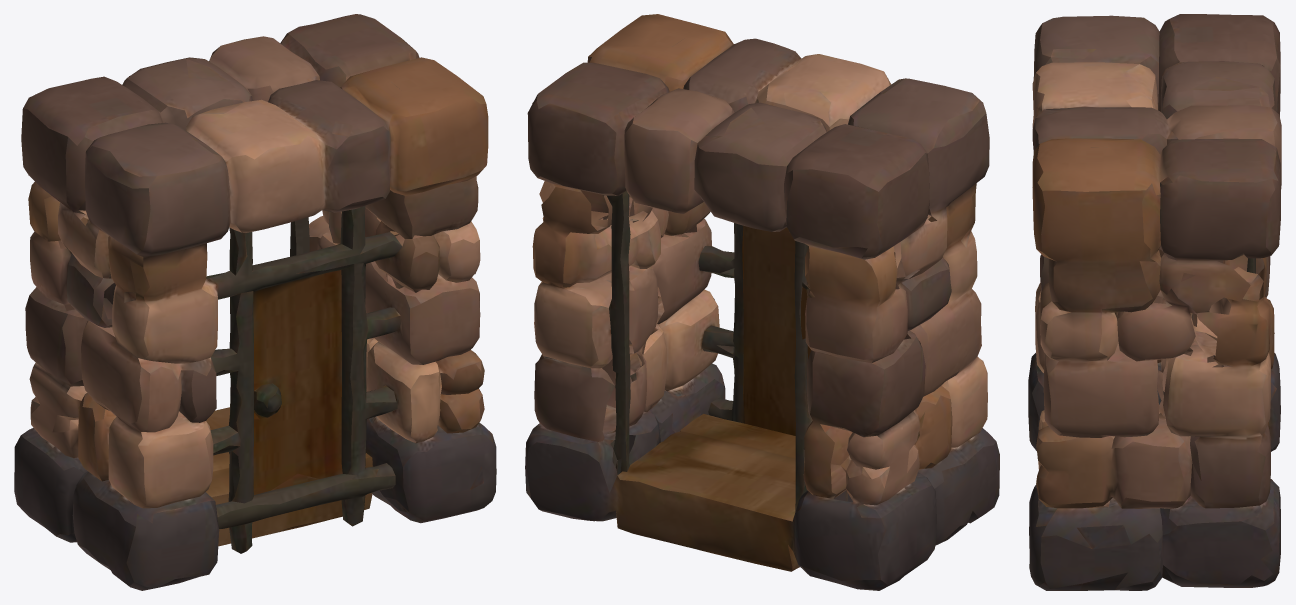
The model's file is lg-dungeon-cell.glb.
The picture shows the model from 3 angles, left to right: view 1: azimuth 30°, elevation 25°; view 2: azimuth 150°, elevation 25°; view 3: azimuth 270°, elevation 25°; orthographic projection.
Parts seen in each view (by area): view 1: geometry_0; view 2: geometry_0; view 3: geometry_0.
Part boxes in pixels (x1,y1,x2,y2): geometry_0: (14,14,496,590); geometry_0: (525,14,999,590); geometry_0: (1028,14,1281,590).
Size of the model in its own units: 0.9308 by 1 by 0.5532.
Materials: 1 (1 with a texture image).
